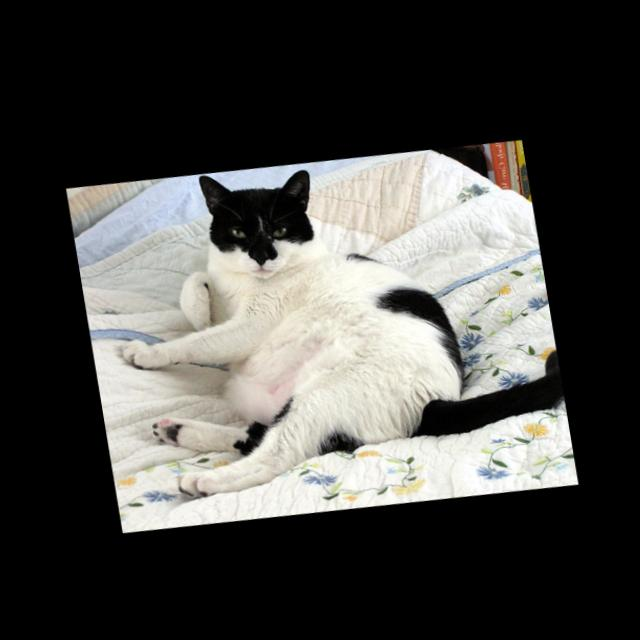animals: (202, 157, 319, 270)
